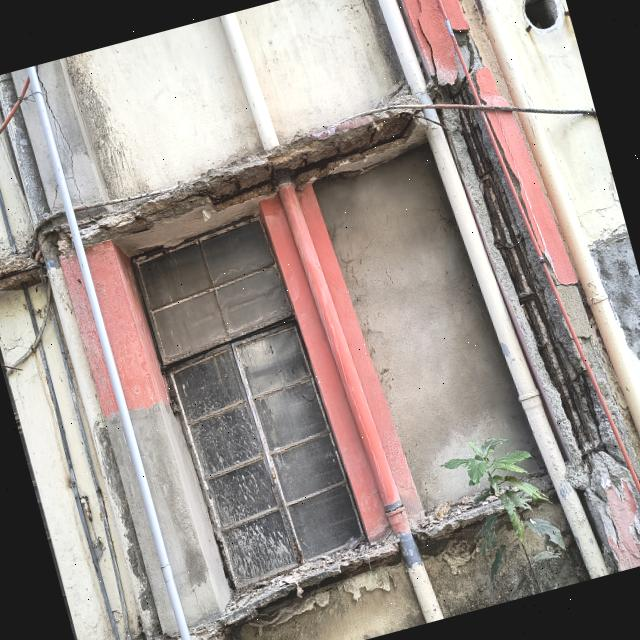Crack: (45, 84, 98, 201)
Spalling: (76, 103, 425, 255), (451, 111, 601, 453), (190, 534, 400, 640), (0, 243, 38, 290)
